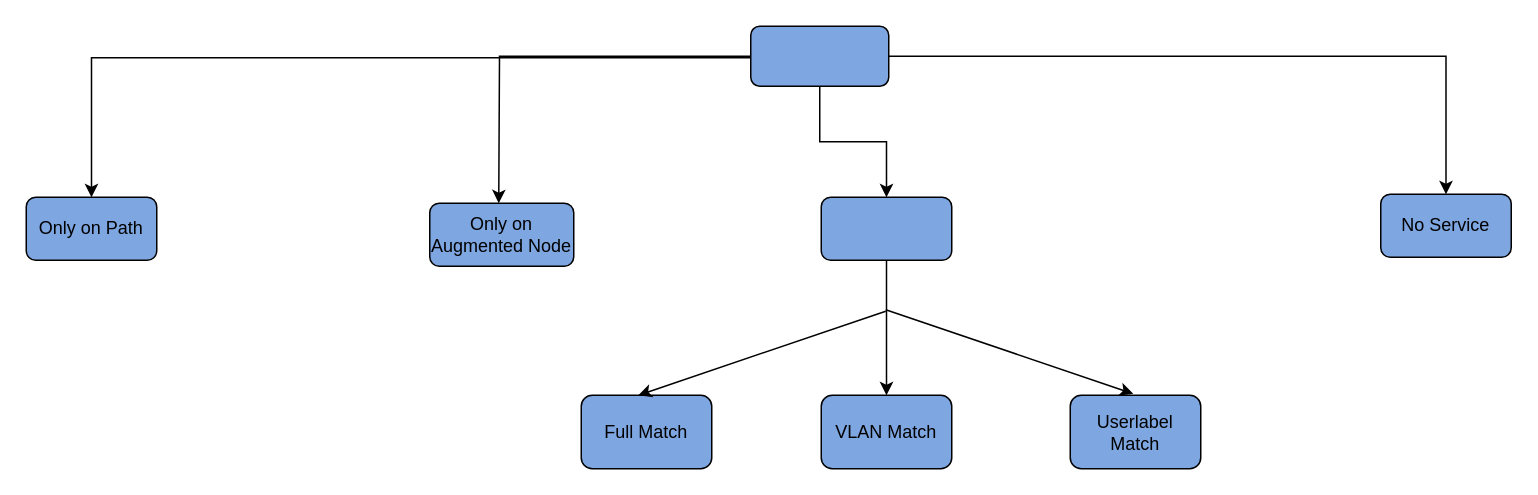
This 1538x495 diagram has some shape labels left out. The shapes that lost their labels are listed below. From the top down, each one's centre as x and y in pixels, then its label:
At point 819,55: "Service Test Cases".
At point 886,228: "On Both".
